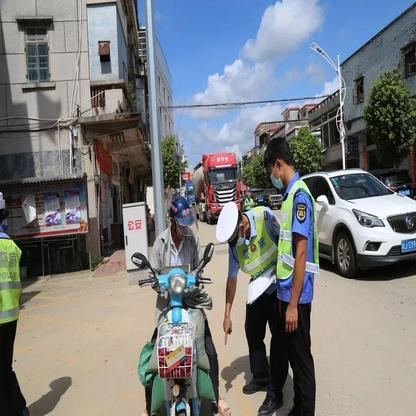target: (130, 194, 227, 413)
